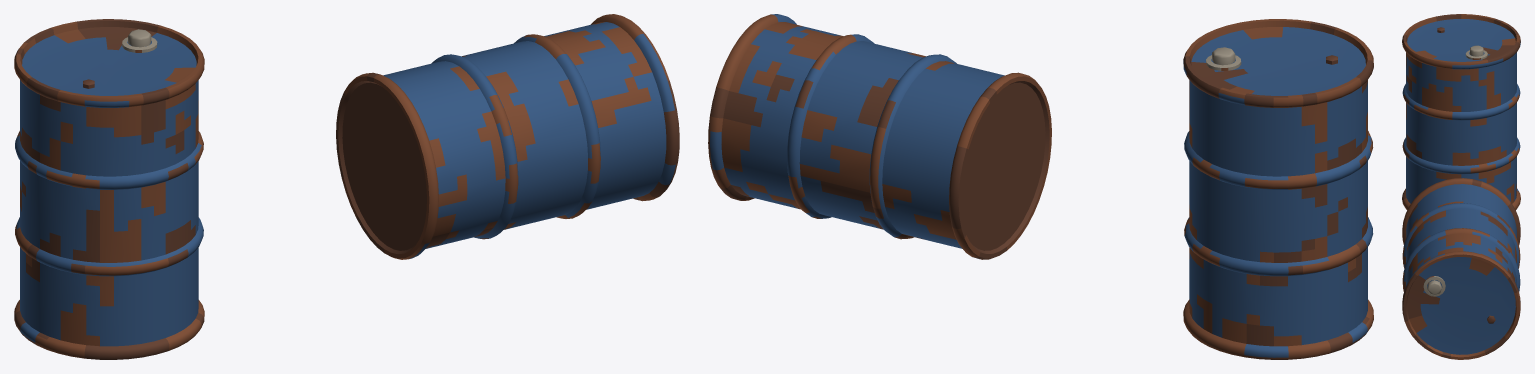
The model's file is Drum.fbx.
3 renders of one model, left to right at view 1: azimuth 30°, elevation 25°; view 2: azimuth 150°, elevation 25°; view 3: azimuth 270°, elevation 25°, orthographic. The views are drawn at different scales.
Parts seen in each view (by area): view 1: Drum_Fallen_Mesh, Drum_Mesh; view 2: Drum_Fallen_Mesh, Drum_Mesh; view 3: Drum_Mesh, Drum_Fallen_Mesh.
Part boxes in pixels (bbox=[...]): Drum_Fallen_Mesh: bbox=[336, 14, 679, 259]; Drum_Mesh: bbox=[14, 19, 204, 359]; Drum_Fallen_Mesh: bbox=[708, 14, 1051, 259]; Drum_Mesh: bbox=[1183, 19, 1373, 359]; Drum_Mesh: bbox=[1402, 14, 1520, 209]; Drum_Fallen_Mesh: bbox=[1402, 178, 1520, 359].
Bounding box in the file's own units: 2.15 × 0.899 × 0.58.
